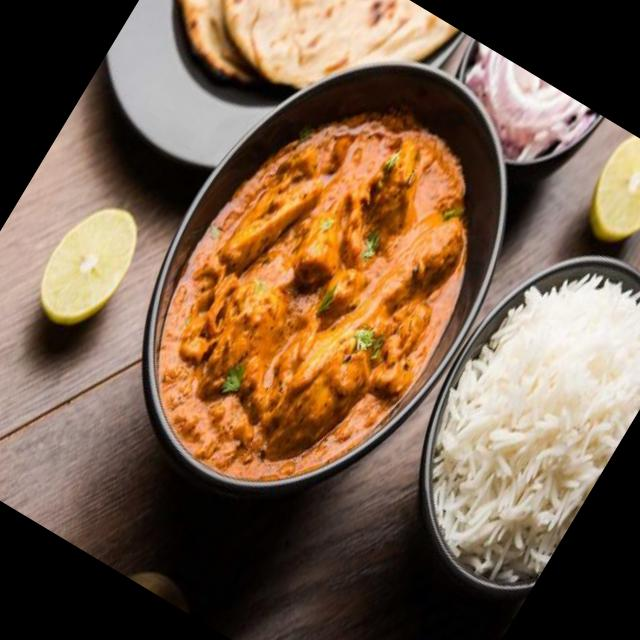chicken: (100, 29, 548, 524)
rice: (363, 233, 640, 608)
roti: (135, 0, 458, 155)
